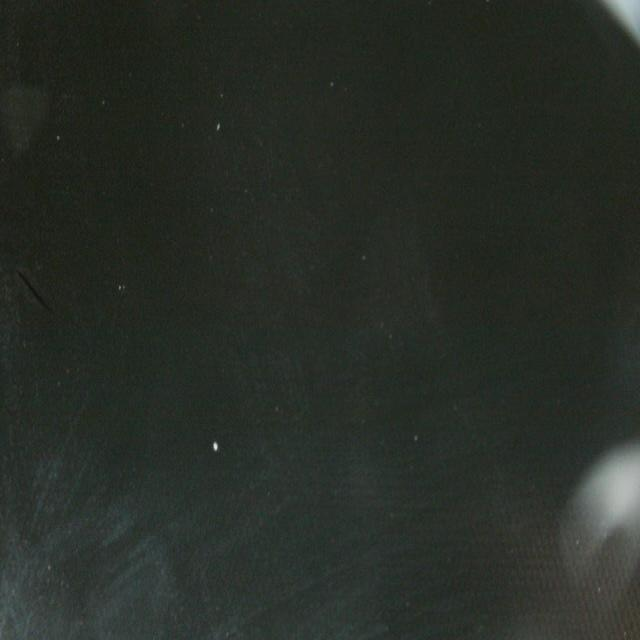scratch: (15, 260, 65, 340)
